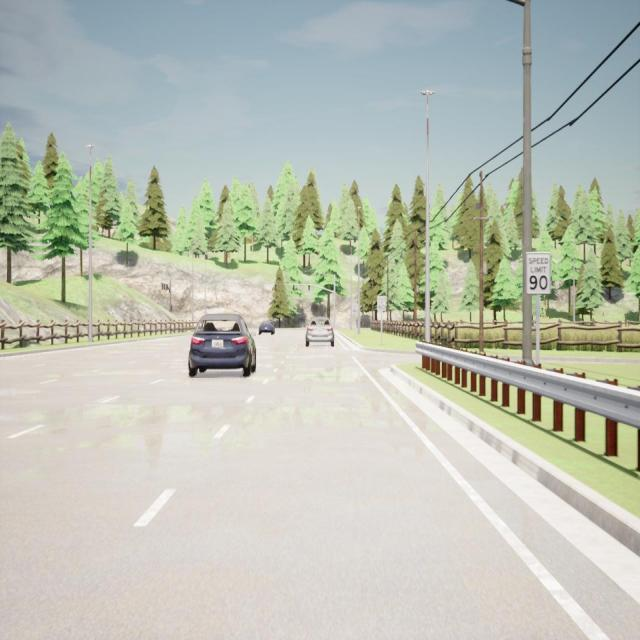Traffic_Signs: (526, 252, 550, 294), (377, 296, 386, 311)
Vehicle: (189, 313, 256, 377), (304, 316, 335, 347), (258, 320, 276, 336)
traffic_light: (166, 284, 168, 290), (308, 286, 310, 290), (275, 284, 276, 290), (164, 284, 165, 290), (162, 284, 163, 289), (294, 285, 294, 291)
